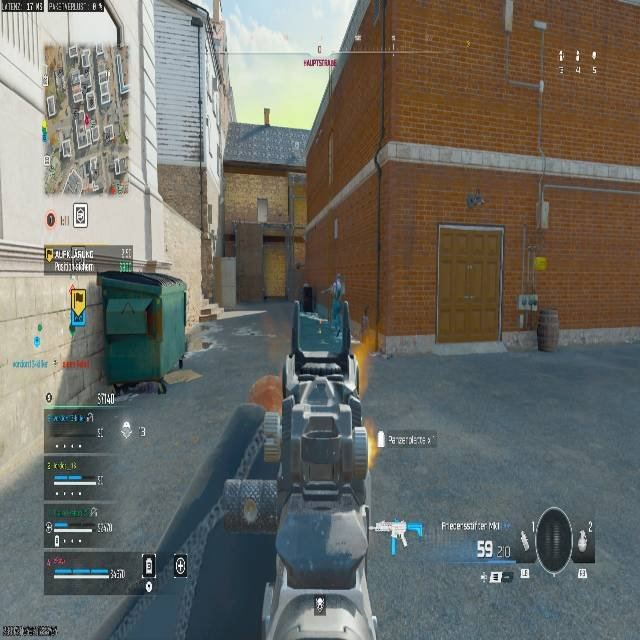player: (327, 279, 347, 322)
